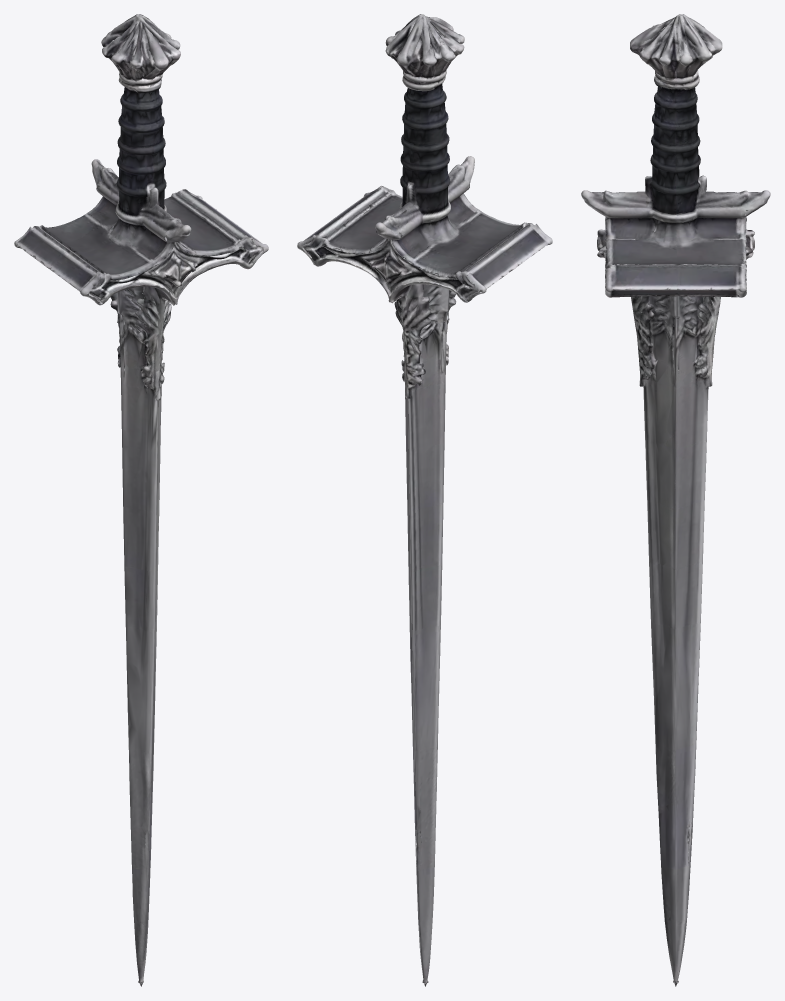
File: sword_ice.glb
The picture shows the model from 3 angles, left to right: view 1: azimuth 30°, elevation 25°; view 2: azimuth 150°, elevation 25°; view 3: azimuth 270°, elevation 25°; orthographic projection.
Visible parts, largest first — view 1: tripo_node_240bf14c-186f-4e3d-819c-5e3c9f2061d0; view 2: tripo_node_240bf14c-186f-4e3d-819c-5e3c9f2061d0; view 3: tripo_node_240bf14c-186f-4e3d-819c-5e3c9f2061d0.
Part boxes in pixels (left/top/right/bottom): tripo_node_240bf14c-186f-4e3d-819c-5e3c9f2061d0: left=14, top=14, right=268, bottom=986; tripo_node_240bf14c-186f-4e3d-819c-5e3c9f2061d0: left=297, top=14, right=552, bottom=986; tripo_node_240bf14c-186f-4e3d-819c-5e3c9f2061d0: left=581, top=14, right=770, bottom=986.
Size of the model in its own units: 1.14 by 5.66 by 0.9994.
1 material, 1 textured.
